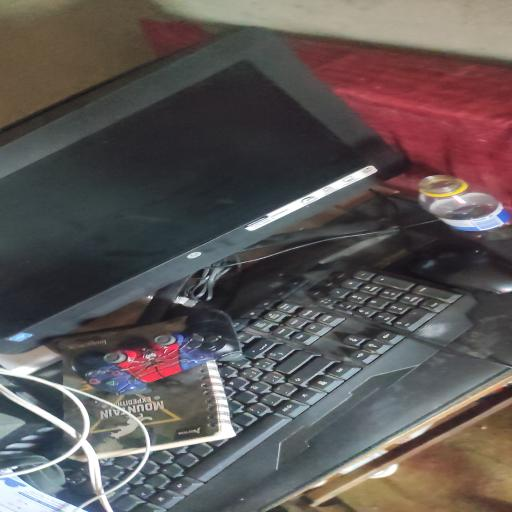ControlPlay4: (84, 310, 242, 394)
